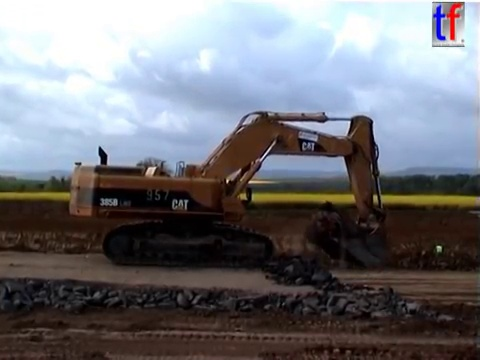excavator: (66, 107, 391, 272)
